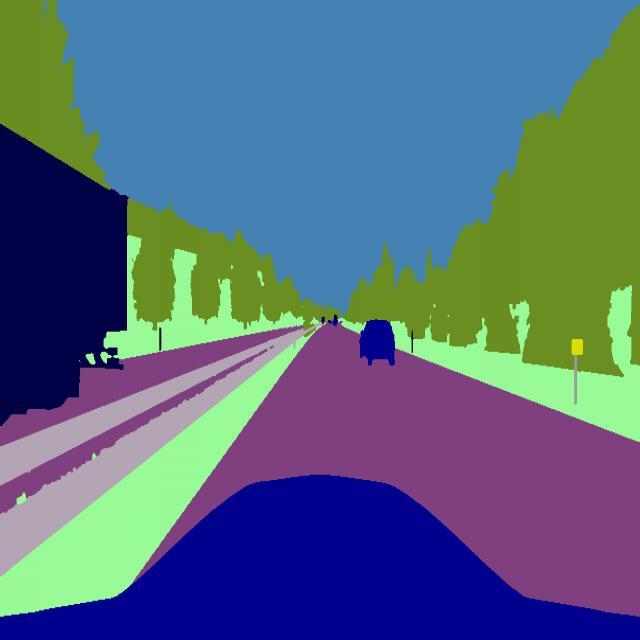safe: (0, 120, 129, 413), (359, 314, 399, 371)
